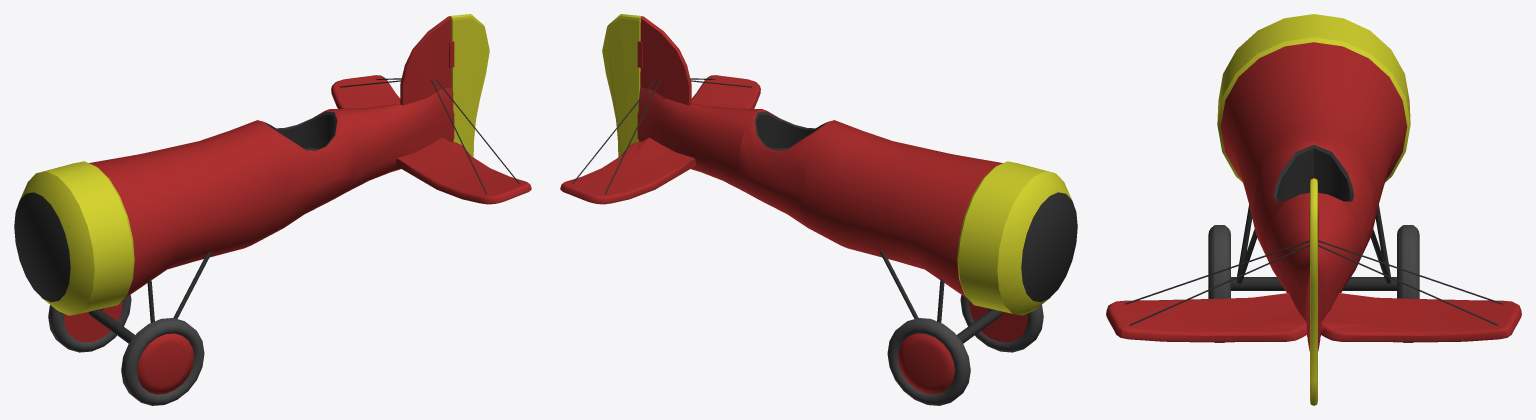
File: SM_Body.fbx
3 renders of one model, left to right at view 1: azimuth 30°, elevation 25°; view 2: azimuth 150°, elevation 25°; view 3: azimuth 270°, elevation 25°, orthographic. The views are drawn at different scales.
Parts seen in each view (by area): view 1: SM_Body; view 2: SM_Body; view 3: SM_Body.
Boxes of the visible parts, bbox=[...] form: SM_Body: bbox=[14, 14, 531, 405]; SM_Body: bbox=[560, 14, 1077, 405]; SM_Body: bbox=[1106, 14, 1521, 405].
Size of the model in its own units: 7.07 by 4.41 by 4.26.
